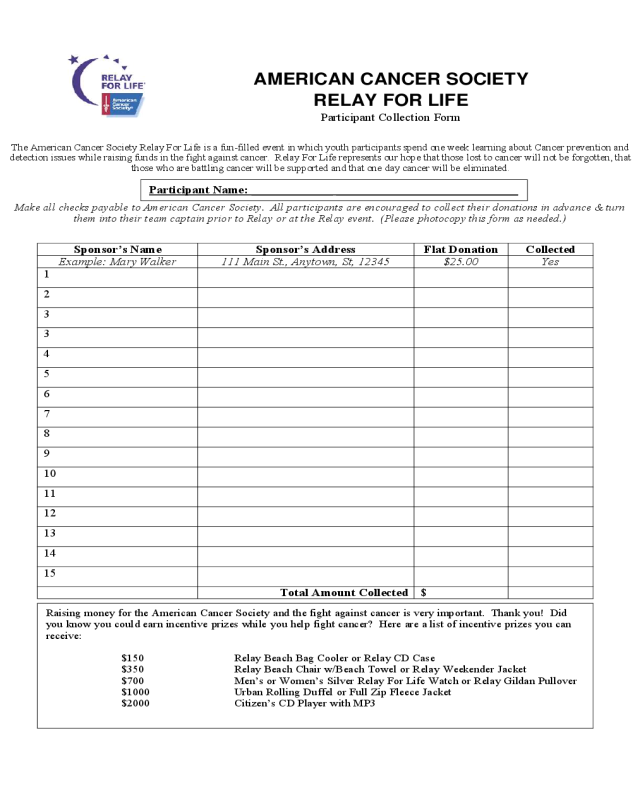textbox: (192, 420, 419, 452), (192, 480, 417, 512), (193, 541, 421, 572), (192, 401, 419, 432), (194, 283, 420, 314), (193, 342, 419, 373), (193, 501, 418, 532), (191, 521, 420, 551), (192, 322, 420, 352), (191, 463, 419, 493), (192, 382, 419, 412), (193, 442, 419, 472), (192, 362, 418, 391), (193, 561, 419, 590), (193, 263, 420, 291), (193, 304, 419, 332), (31, 542, 201, 572), (33, 324, 203, 353), (31, 443, 201, 472), (32, 482, 202, 511), (32, 423, 201, 452), (33, 462, 202, 491), (35, 284, 203, 313), (34, 403, 202, 432), (34, 264, 201, 293), (29, 562, 201, 590), (33, 304, 203, 332), (33, 383, 203, 411), (33, 523, 201, 551), (31, 344, 203, 371), (31, 503, 203, 530), (33, 364, 203, 391), (407, 460, 515, 492), (408, 361, 514, 393), (408, 500, 513, 531), (407, 442, 515, 472), (409, 342, 513, 373), (409, 421, 513, 452), (409, 382, 512, 413), (409, 401, 512, 432), (503, 481, 599, 514), (409, 301, 511, 332), (501, 440, 599, 472), (500, 501, 601, 532), (408, 262, 512, 292), (502, 460, 599, 492), (503, 281, 597, 314), (409, 322, 512, 352), (503, 520, 599, 552), (407, 482, 512, 511), (409, 523, 513, 552), (409, 562, 513, 591), (504, 321, 600, 352), (409, 540, 507, 570), (410, 283, 513, 311), (503, 362, 599, 392), (503, 561, 599, 591), (504, 542, 599, 572), (501, 304, 599, 333), (503, 382, 597, 412), (504, 422, 597, 452), (503, 403, 599, 432), (505, 262, 597, 292), (504, 343, 597, 372), (505, 581, 596, 602), (411, 583, 512, 601)
textline: (249, 180, 521, 198)
